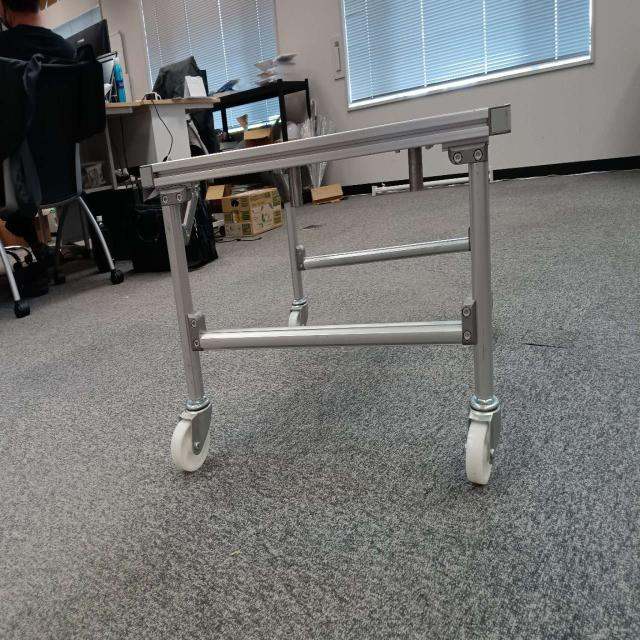side: (158, 112, 493, 353)
